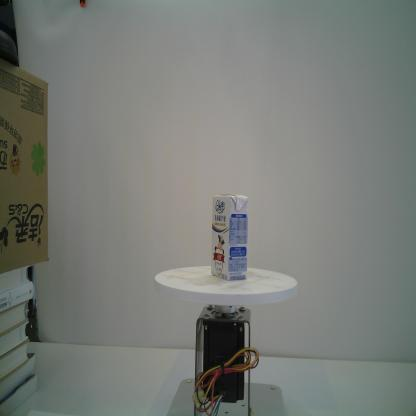Milk: (210, 193, 248, 280)
